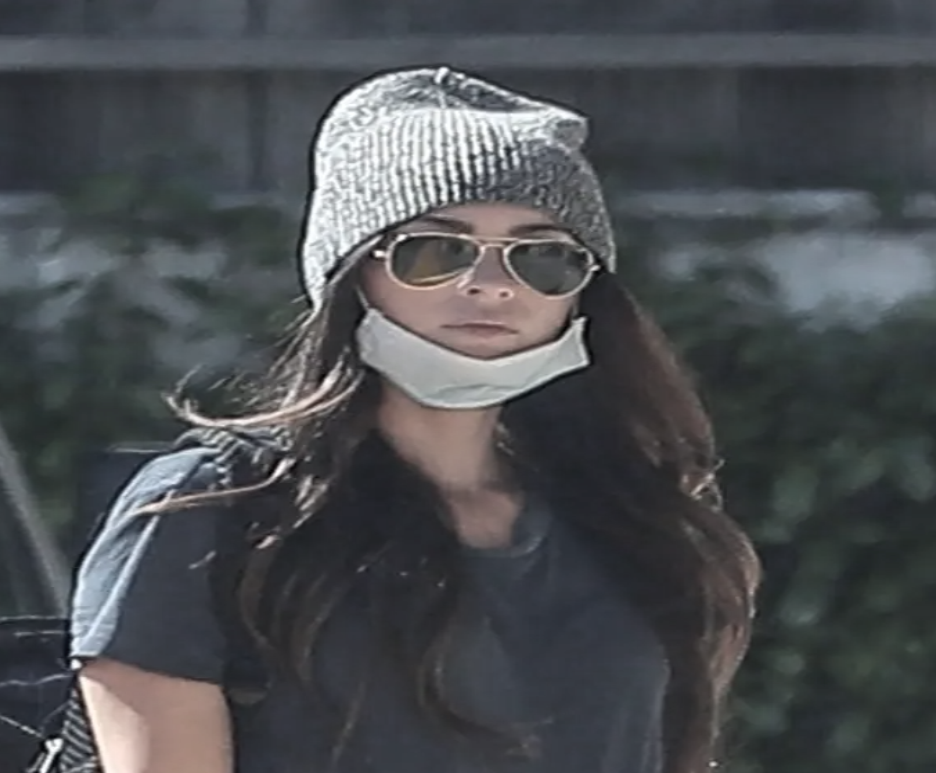mask_weared_incorrect: (301, 70, 614, 416)
